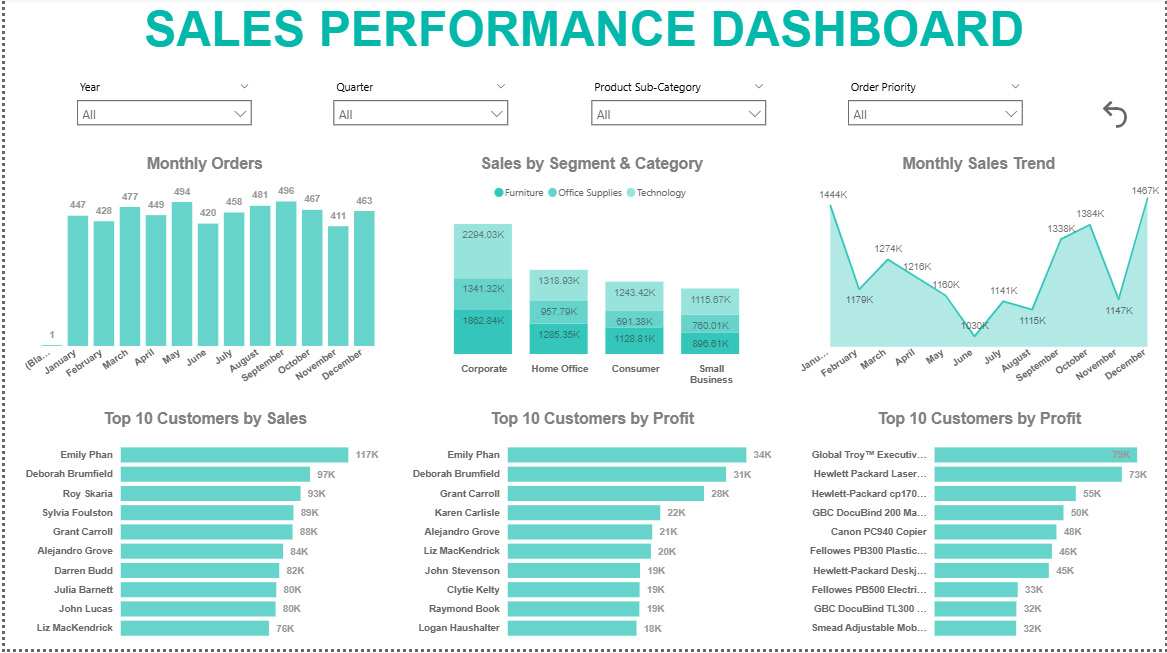

Layout of this report page (visuals, bound fields, positions):
{"tool":"powerbi","page":{"name":"Page 1","canvas":[1280,720],"ordinal":0},"visuals":[{"type":"textbox","box":[0,0,1279.4,74.5],"z":0},{"type":"slicer","fields":{"Values":["Orders.Order Date.Variation.Date Hierarchy.Year"]},"box":[69.1,85.4,212.6,85.4],"z":1000},{"type":"slicer","fields":{"Values":["Orders.Order Date.Variation.Date Hierarchy.Quarter"]},"box":[353,85.4,212.6,85.4],"z":2000},{"type":"slicer","fields":{"Values":["Orders.Product Sub-Category"]},"box":[637,85.4,212.6,85.4],"z":3000},{"type":"slicer","fields":{"Values":["Orders.Order Priority"]},"box":[920.9,85.4,212.6,85.4],"z":4000},{"type":"columnChart","title":"Monthly Orders","fields":{"Category":["Orders.Order Date.Variation.Date Hierarchy.Month"],"Y":["Orders.Order ID"]},"box":[16.7,174.2,408.1,262.5],"z":5000},{"type":"columnChart","title":"Sales by Segment & Category","fields":{"Y":["Orders.Sales"],"Category":["Orders.Customer Segment"],"Series":["Orders.Product Category"]},"box":[443.9,174.2,408.1,262.5],"z":6000},{"type":"areaChart","title":"Monthly Sales Trend","fields":{"Category":["Orders.Order Date.Variation.Date Hierarchy.Month"],"Y":["Orders.Sales"]},"box":[871.1,174.2,408.1,262.5],"z":7000},{"type":"barChart","title":"Top 10 Customers by Sales","fields":{"Category":["Orders.Customer Name"],"Y":["Orders.Sales"]},"box":[16.4,456.2,408.9,263.5],"z":8000},{"type":"barChart","title":"Top 10 Customers by Profit","fields":{"Category":["Orders.Customer Name"],"Y":["Orders.Profit"]},"box":[443.4,456.2,408.9,263.5],"z":9000},{"type":"barChart","title":"Top 10 Customers by Profit","fields":{"Category":["Orders.Product Name"],"Y":["Orders.Profit"]},"box":[870.5,456.2,408.9,263.5],"z":10000},{"type":"actionButton","box":[1206.7,109,58.2,40],"z":11000}]}

Visuals, with their boxes in screenshot pixels (x1, y1, x2, y2), scaled from the page's 1280x720 canvas onto the 1167x653 screenshot:
textbox: <region>0, 0, 1166, 68</region>
slicer - Orders.Order Date.Variation.Date Hierarchy.Year: <region>63, 77, 257, 155</region>
slicer - Orders.Order Date.Variation.Date Hierarchy.Quarter: <region>322, 77, 516, 155</region>
slicer - Orders.Product Sub-Category: <region>581, 77, 775, 155</region>
slicer - Orders.Order Priority: <region>840, 77, 1033, 155</region>
"Monthly Orders" columnChart: <region>15, 158, 387, 396</region>
"Sales by Segment & Category" columnChart: <region>405, 158, 777, 396</region>
"Monthly Sales Trend" areaChart: <region>794, 158, 1166, 396</region>
"Top 10 Customers by Sales" barChart: <region>15, 414, 388, 652</region>
"Top 10 Customers by Profit" barChart: <region>404, 414, 777, 652</region>
"Top 10 Customers by Profit" barChart: <region>794, 414, 1166, 652</region>
actionButton: <region>1100, 99, 1153, 135</region>
